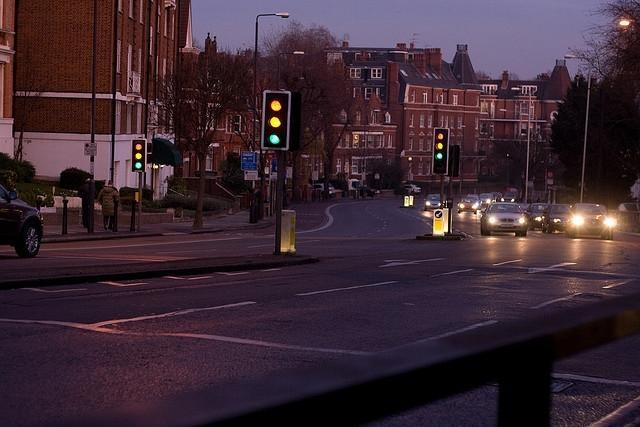car: (1, 183, 44, 259), (566, 203, 614, 241), (480, 204, 528, 237), (542, 204, 572, 233), (524, 203, 550, 230), (457, 197, 480, 216), (424, 194, 441, 211), (500, 192, 520, 204), (480, 192, 494, 208), (616, 202, 640, 210), (360, 187, 374, 196)
